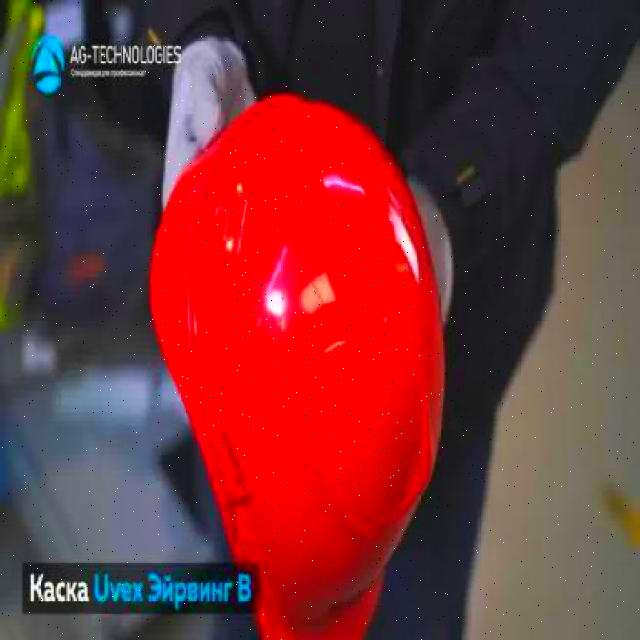Gloves: (158, 30, 258, 210)
Helmet: (150, 90, 448, 638)
